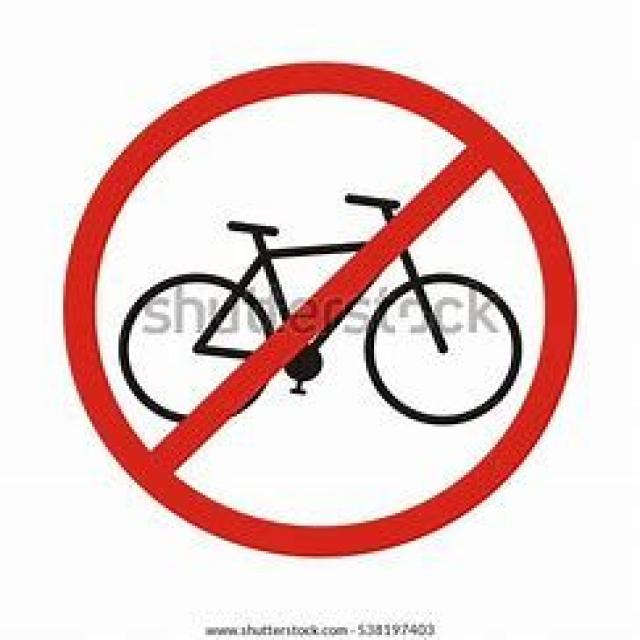CYCLE_PROHIBITED: (61, 61, 576, 554)
